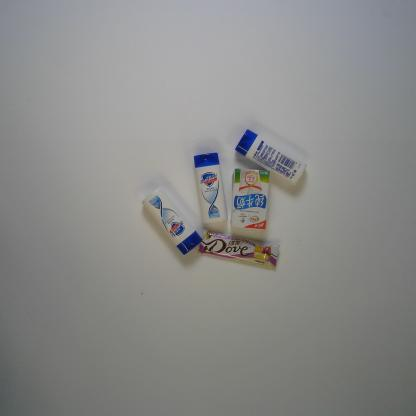Chocolate: (195, 227, 280, 270)
Milk: (229, 166, 272, 232)
Personal Hygiene: (233, 128, 308, 185), (141, 186, 201, 257), (193, 150, 229, 225)
